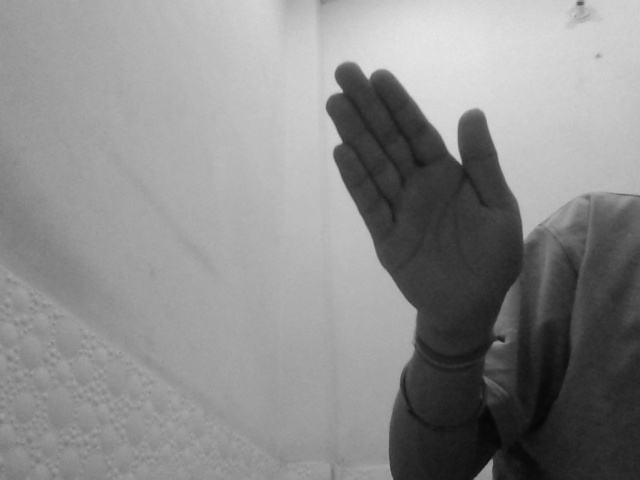Hello: (322, 59, 527, 329)
